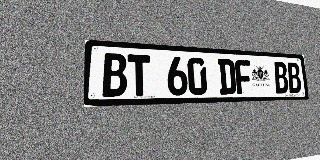0: (187, 57, 207, 95)
6: (167, 56, 188, 96)
B: (102, 53, 127, 97), (273, 62, 289, 93), (286, 62, 302, 93)
D: (218, 59, 236, 95)
F: (235, 60, 252, 94)
T: (127, 54, 151, 96)
